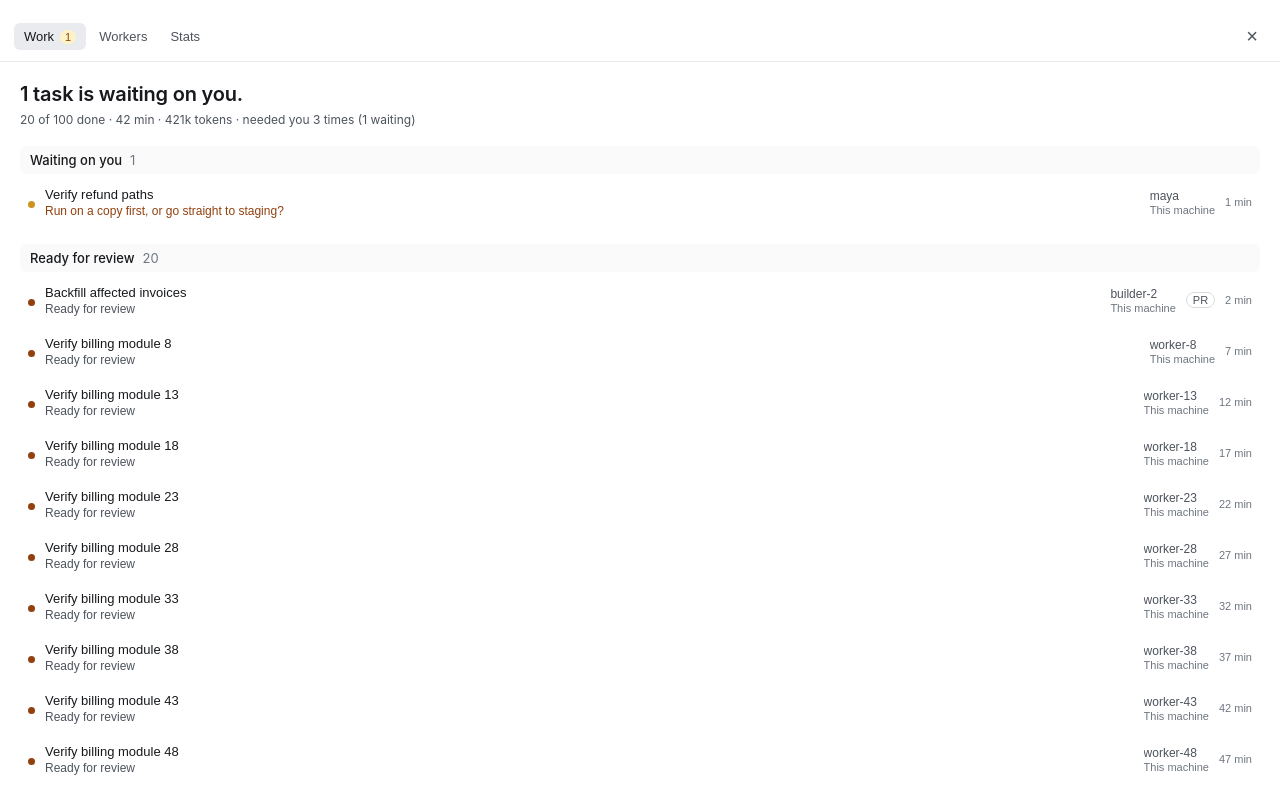
Scenario: team view › all tabs work, completed tasks are collapsed, large workers expand by role
Expected: the heading "1 task is waiting on you." is shown, x1=20 y1=82 x2=243 y2=106
Click the tab "Workers" at [123, 36], box x1=89 y1=23 x2=157 y2=50
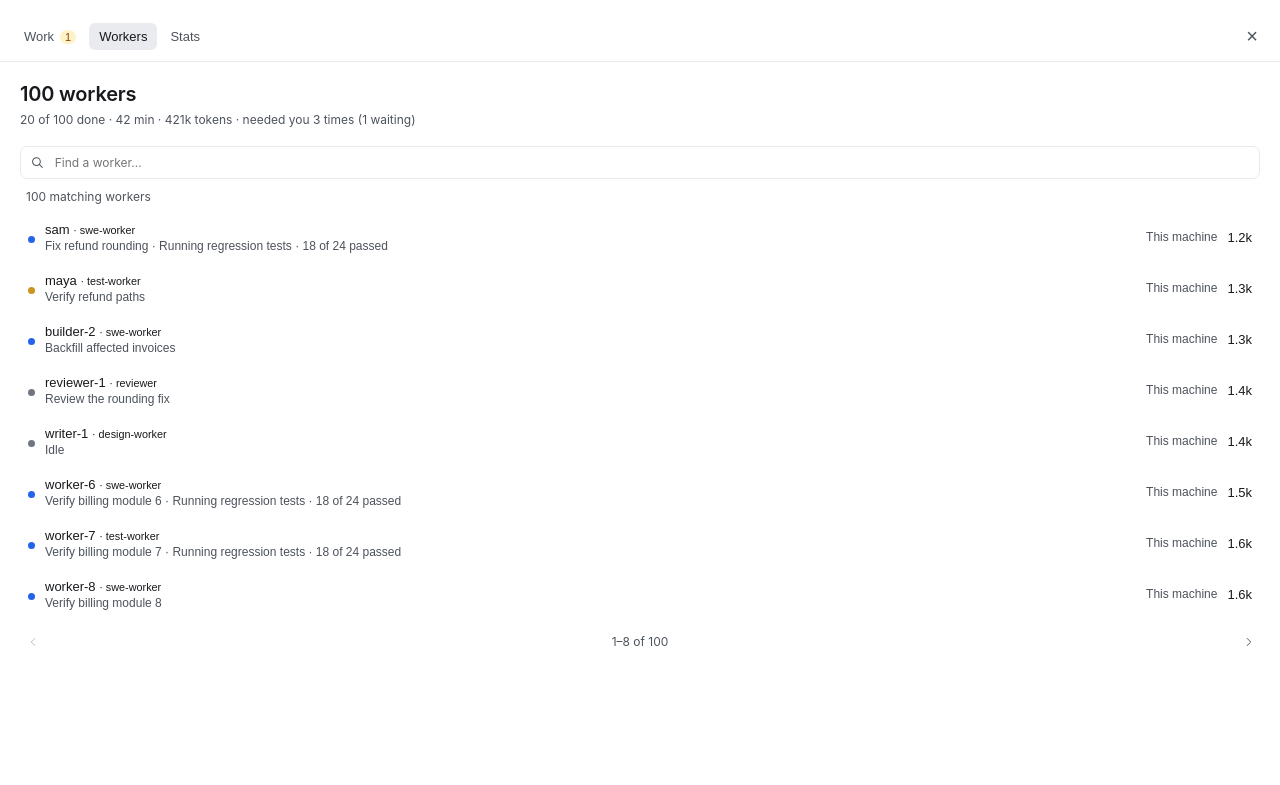
Expected: the search field is shown, x1=53 y1=154 x2=1250 y2=171
Expected: the button with test id "team-worker-sam" is shown, x1=20 y1=212 x2=1260 y2=263
Click the tab "Stats" at [185, 36], box x1=160 y1=23 x2=210 y2=50
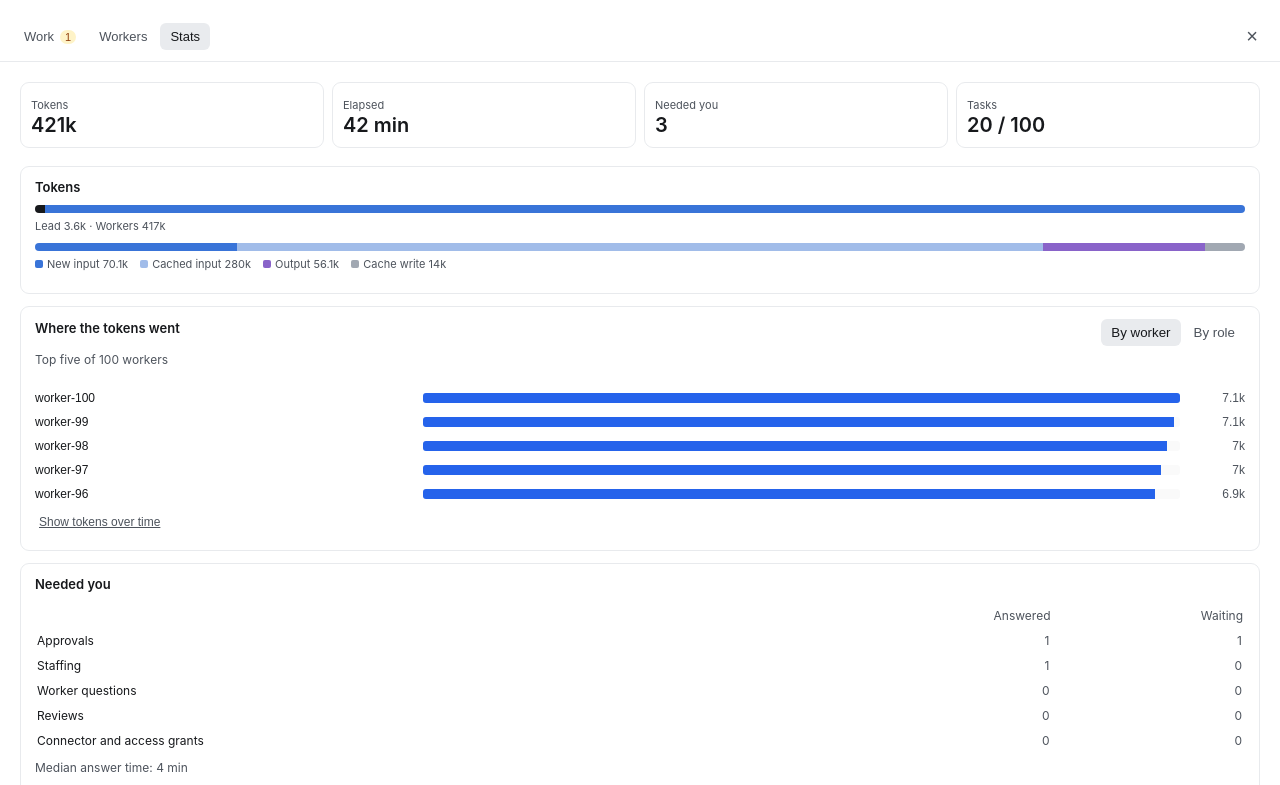
Expected: the text "Top five of 100 workers" is shown, x1=35 y1=352 x2=168 y2=367
Click the button "Show tokens over time" at [100, 522], box x1=35 y1=506 x2=164 y2=538
(page scrolled)
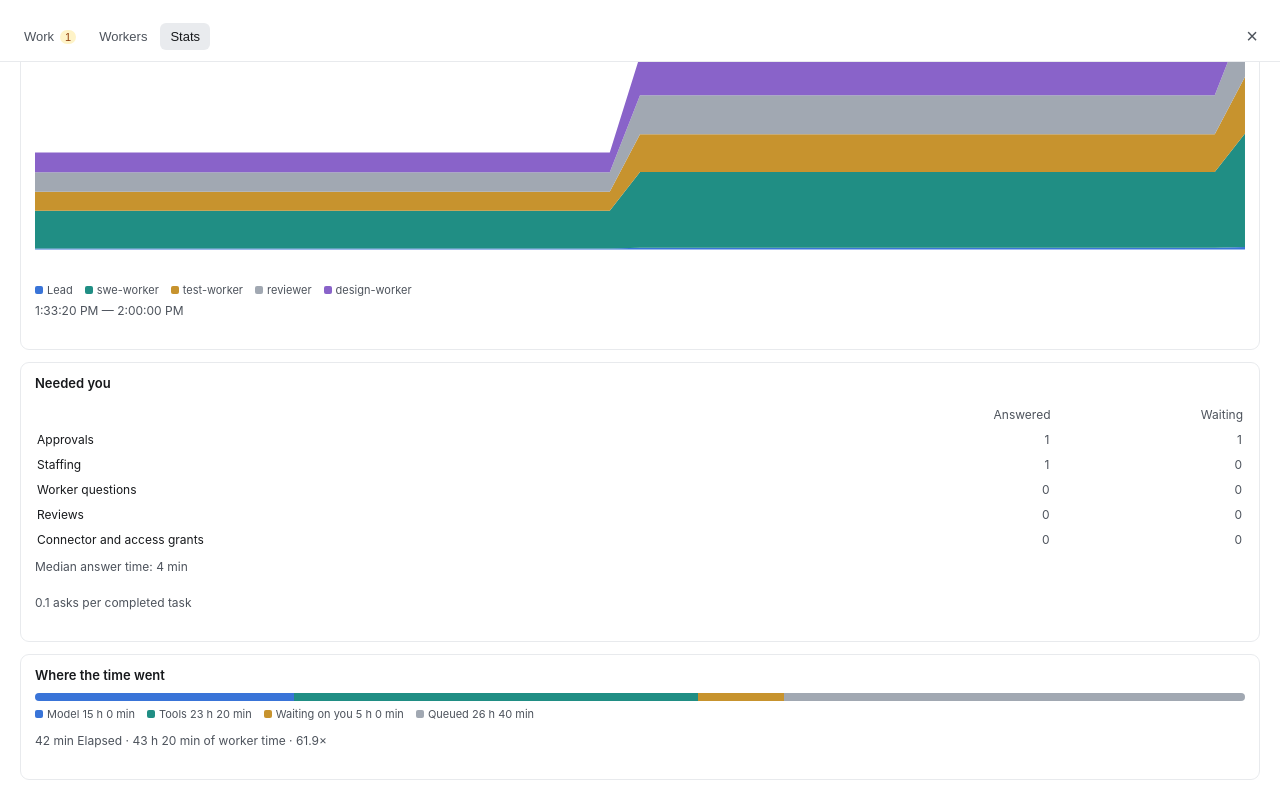
Expected: the column heading "Staffing" is shown, x1=37 y1=453 x2=791 y2=476
Expected: the picture named "Cumulative tokens by role over time" is shown, x1=35 y1=62 x2=1245 y2=273
